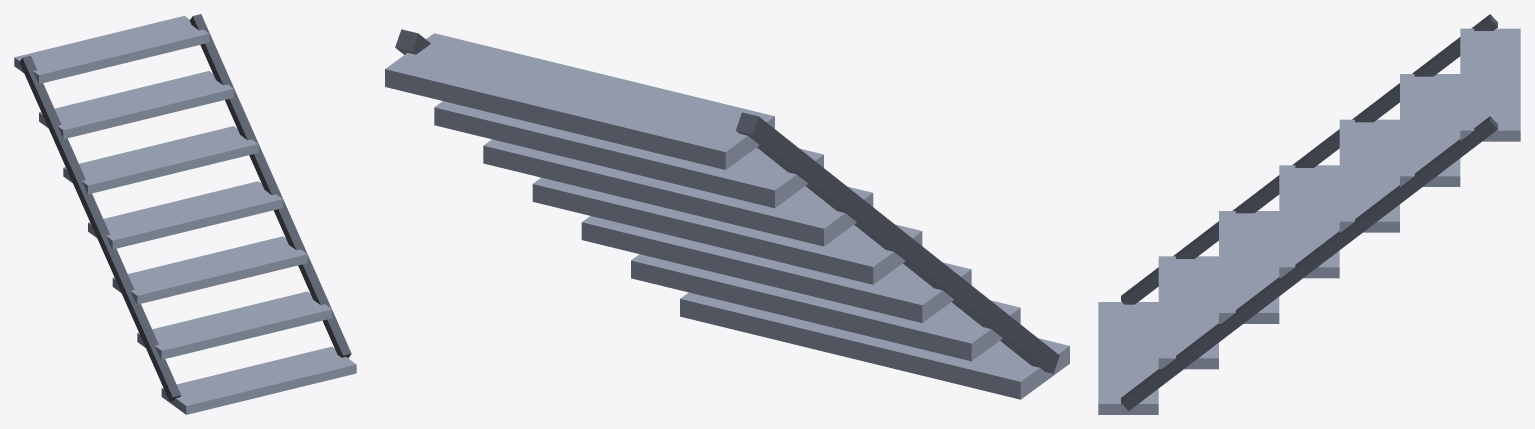
Rendered from stationpack-stairs-metal.glb.
The picture shows the model from 3 angles, left to right: view 1: azimuth 30°, elevation 25°; view 2: azimuth 150°, elevation 25°; view 3: azimuth 270°, elevation 25°; orthographic projection. The views are drawn at different scales.
Parts seen in each view (by area): view 1: stairs_metal; view 2: stairs_metal; view 3: stairs_metal.
Part boxes in pixels (<box>): stairs_metal: <box>14,14,356,414</box>; stairs_metal: <box>385,29,1069,399</box>; stairs_metal: <box>1098,14,1520,414</box>.
Size of the model in its own units: 1.26 by 1.63 by 2.1.
